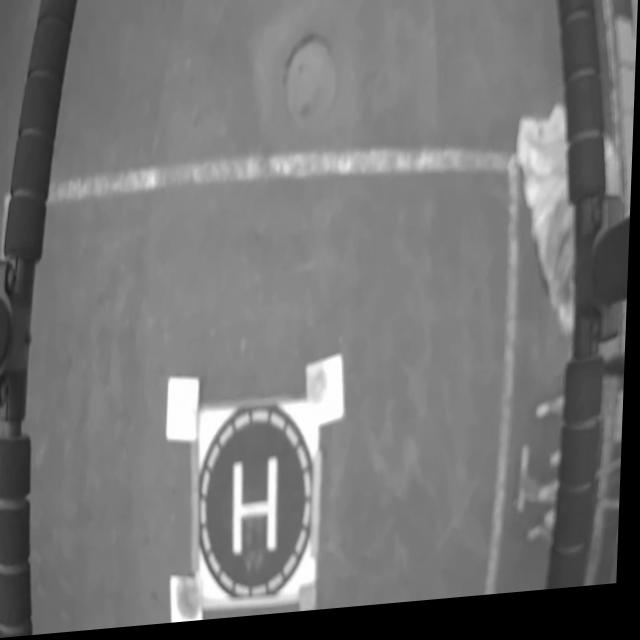Helipad: (236, 462, 282, 562)
